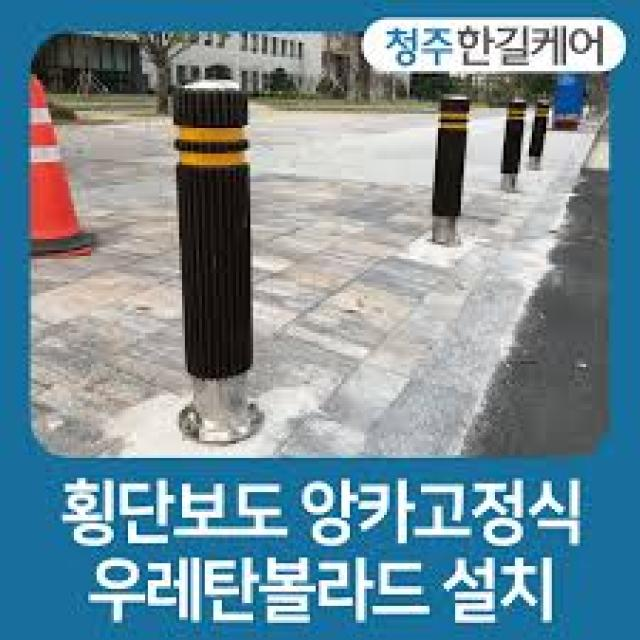bollard: (160, 57, 269, 452), (421, 84, 473, 262), (519, 88, 556, 185), (497, 86, 524, 202)
